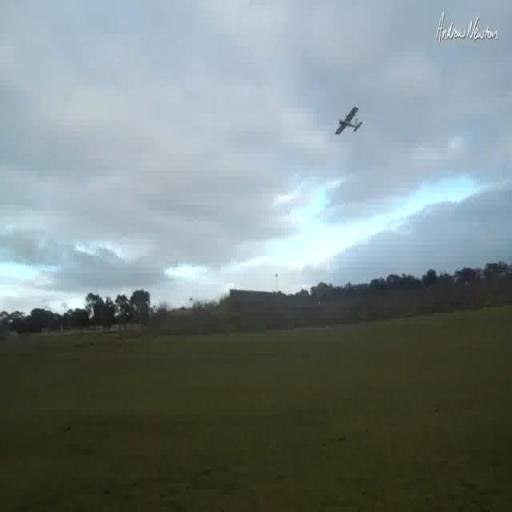uav: (328, 104, 366, 138)
